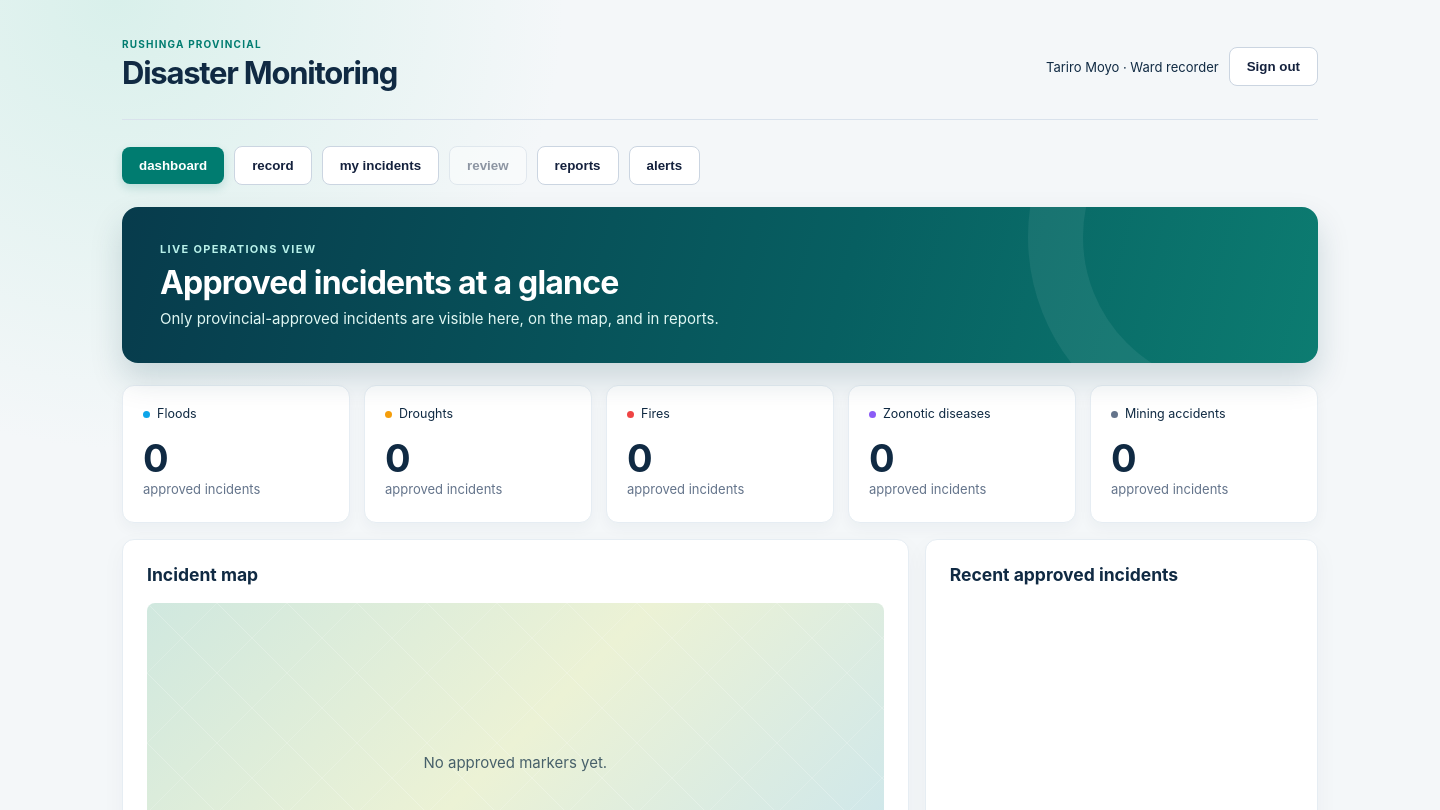
Test case: Role-based Access and Navigation Flows › handles sign out correctly
Expected: the text "Tariro Moyo · Ward recorder" is shown, [1046,58,1219,74]
Click the button "Sign out". click: (1273, 66)
box: [1229,47,1318,86]
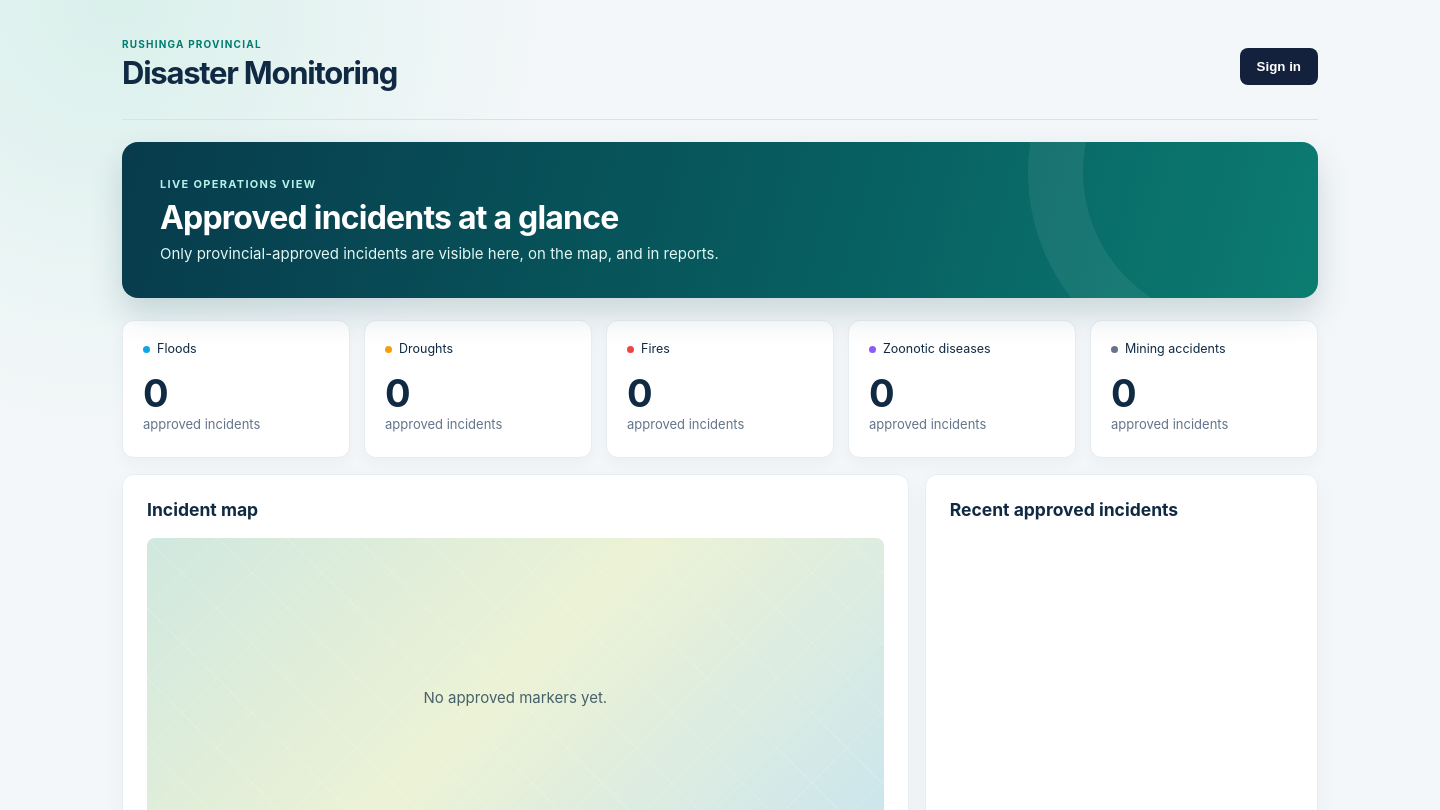
Result: the text "Tariro Moyo · Ward recorder" is gone
Result: the button "Sign in" is shown at [1240,48,1318,85]
